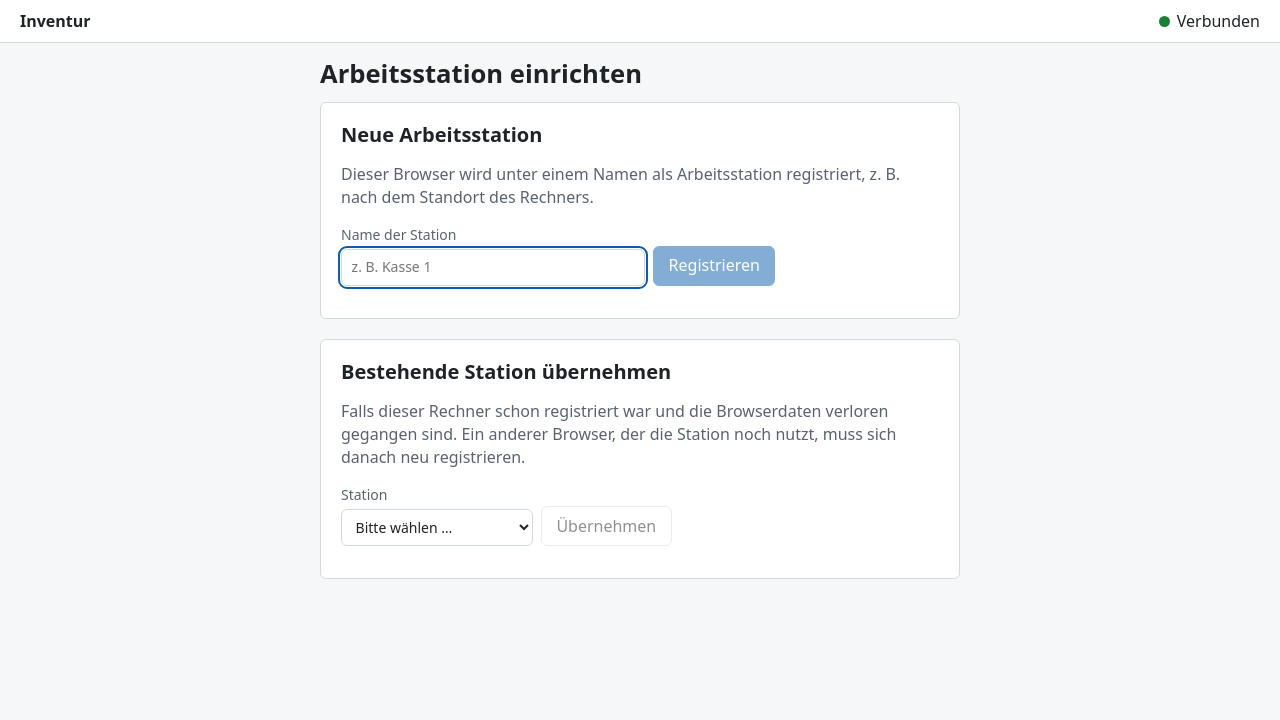
workstation registration › takes over an existing workstation
Select "Kasse" in the dropdown labelled "Station" at coordinates (437, 527), box [341,509,533,546]
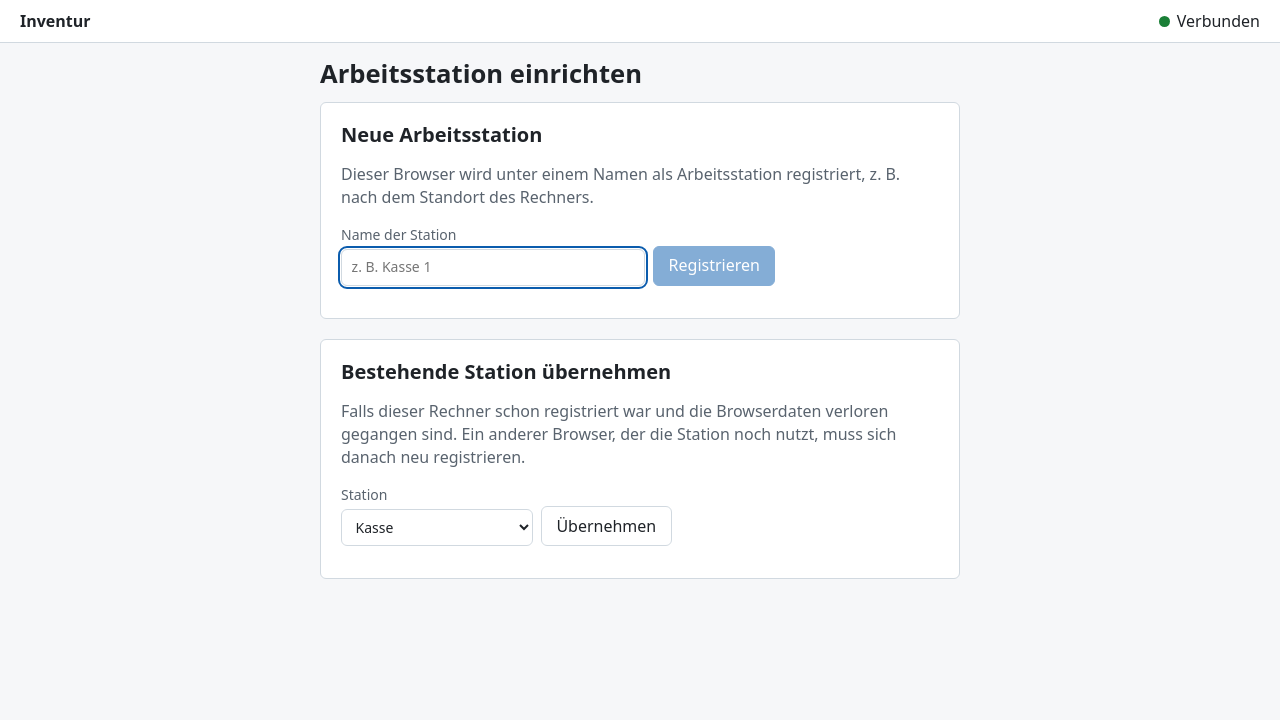
Click the button "Übernehmen" at coordinates (606, 526), box [541,506,672,546]
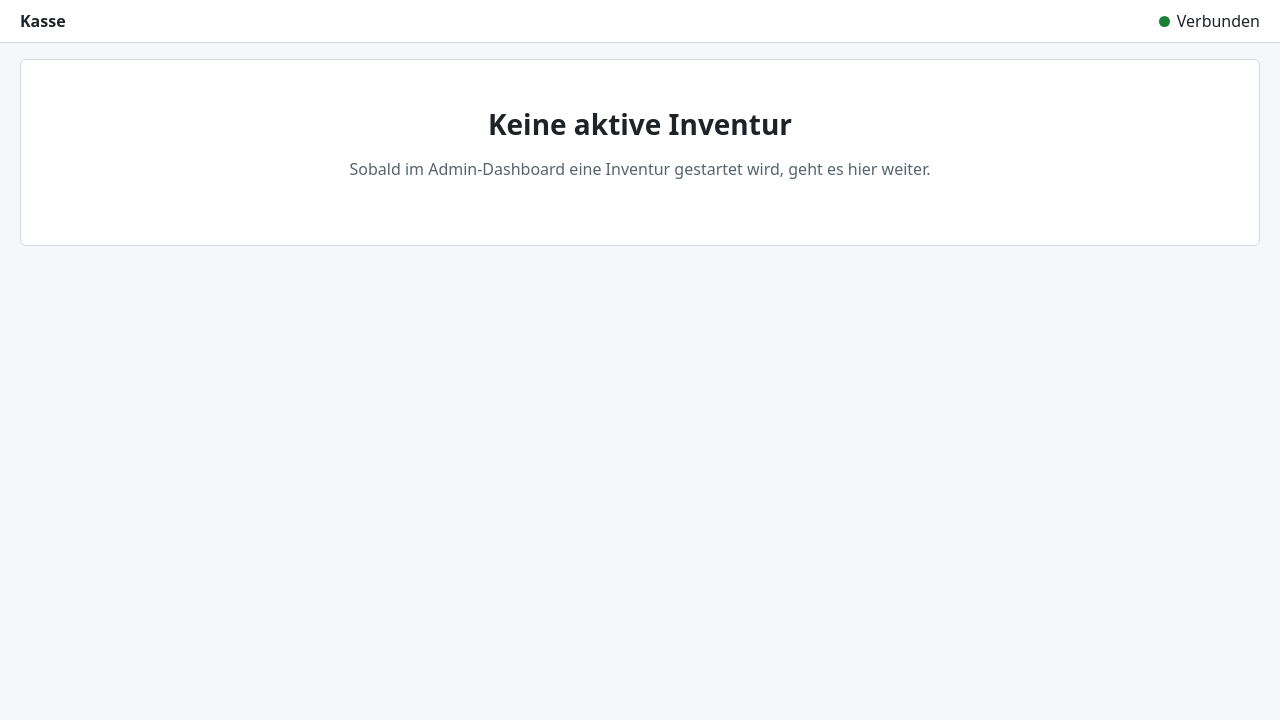
expect the heading "Keine aktive Inventur" is shown: met, box [488,105,792,143]
